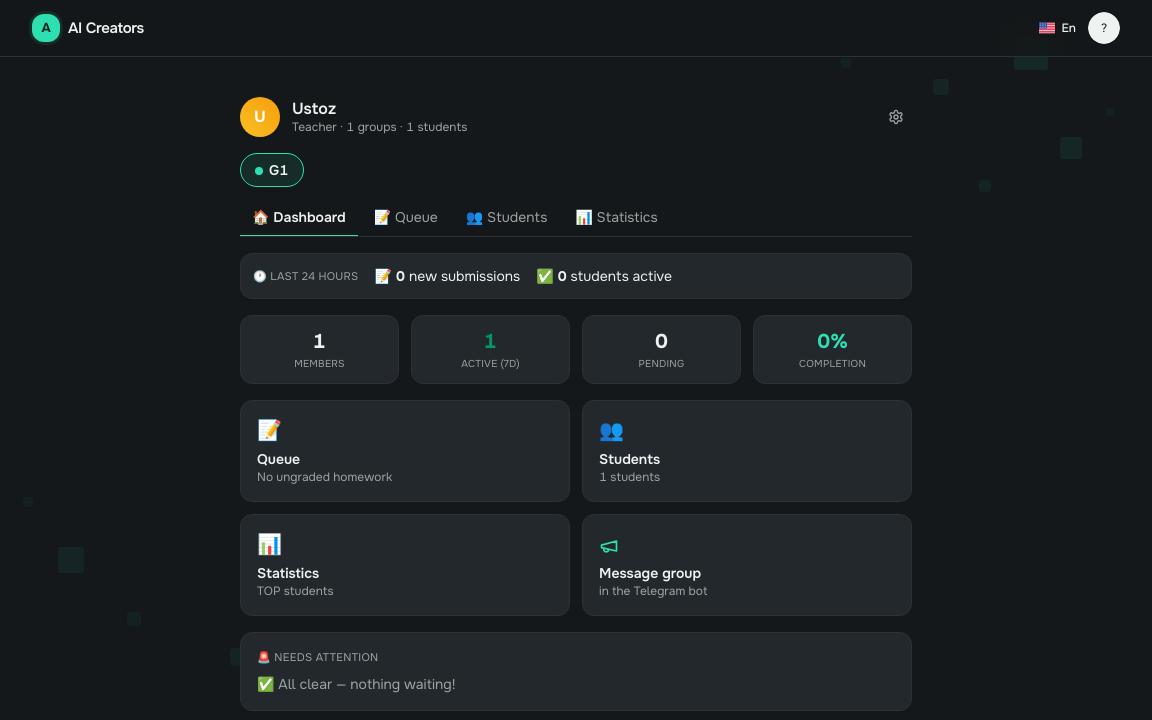
it: TeacherProfile grading queue — capped page indicator › everything fits → no indicator, exact count on the tab
The width and height of the screenshot is (1152, 720).
Step 1. Click the tab "📝 Queue" → coordinates (406, 222), box [362,207,450,237]
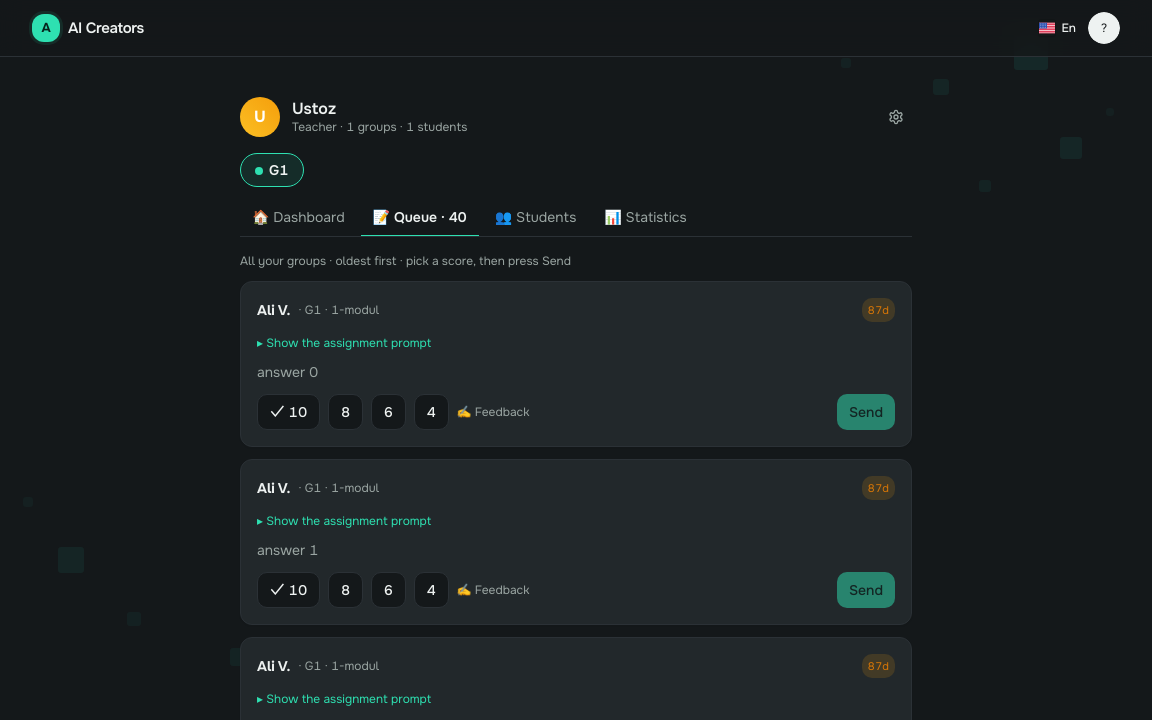
Now the text "answer 0" is shown, box [257,363,318,381]
Now the tab "📝 Queue · 40" is shown, box [361,207,479,237]
